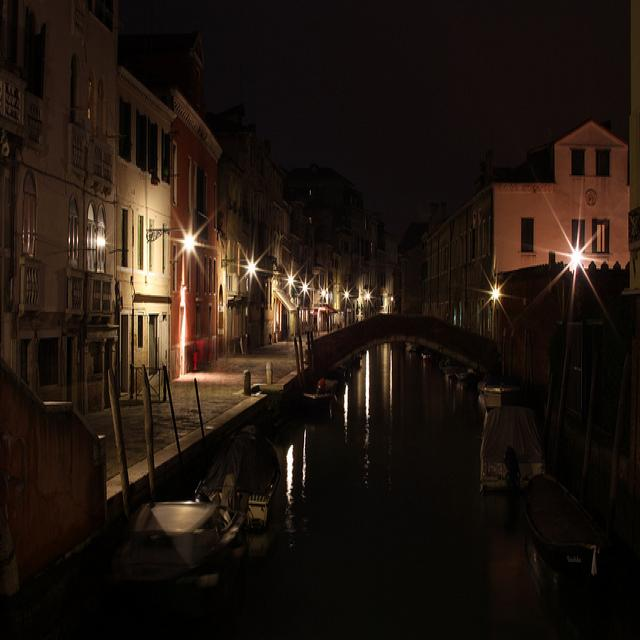Boat: (121, 438, 309, 596), (469, 382, 559, 522), (496, 510, 625, 605), (285, 356, 373, 427), (433, 340, 482, 427)
